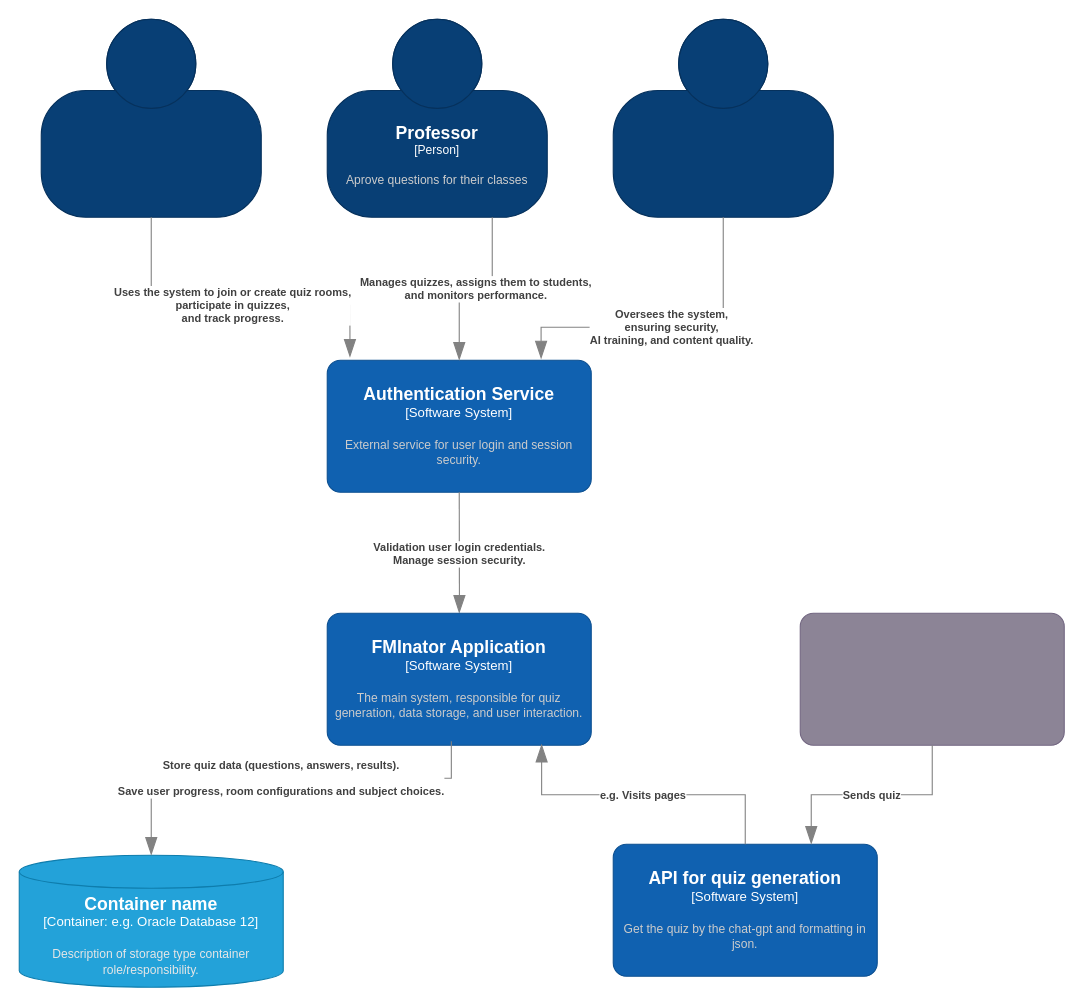
The diagram is 1084 pixels wide and 1007 high, and some of its shapes have lost their labels. The shapes that lost their labels are listed below. From the top down, each one's centre as x and y in pixels, then its label:
At [150,117]: "Student [Person] Wants to learn for university exams".
At [722,117]: "System Adminstrator [Person] Can add questions and manage the app".
At [931,678]: "Chat-GPT [Software System] Generates the questions and sends to the API".
